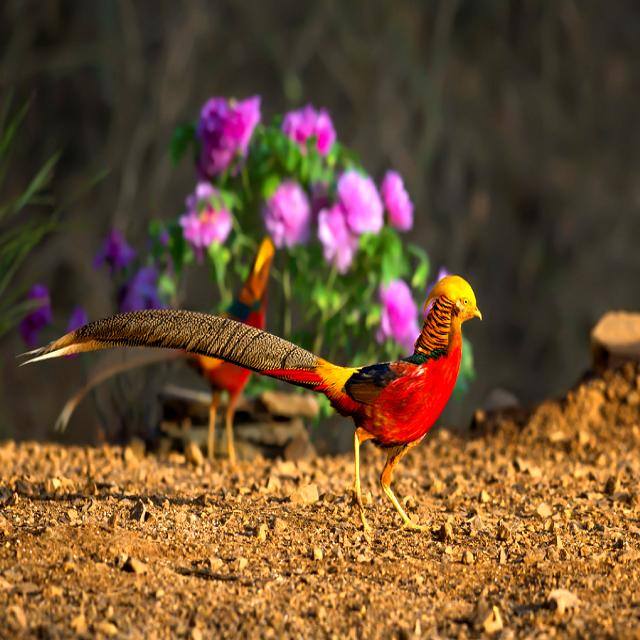Chrysolophus pictus feather: (26, 309, 318, 371)
